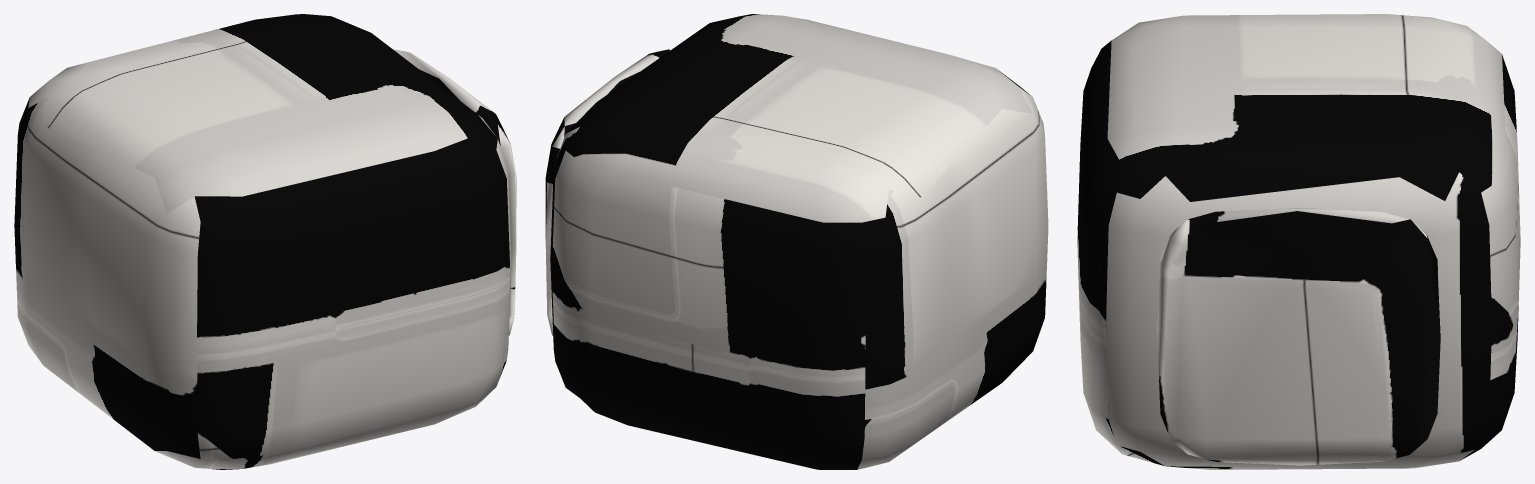
Rendered from Centinela_BrazaleteIzq.fbx.
3 views of the same model, side by side, from view 1: azimuth 30°, elevation 25°; view 2: azimuth 150°, elevation 25°; view 3: azimuth 270°, elevation 25° (orthographic). The views are drawn at different scales.
Visible parts, largest first — view 1: Centinela_BrazaleteIzq; view 2: Centinela_BrazaleteIzq; view 3: Centinela_BrazaleteIzq.
Boxes of the visible parts, bbox=[...] form: Centinela_BrazaleteIzq: bbox=[14, 14, 516, 469]; Centinela_BrazaleteIzq: bbox=[545, 14, 1048, 469]; Centinela_BrazaleteIzq: bbox=[1077, 14, 1520, 469].
Bounding box in the file's own units: 1.19 × 0.9499 × 1.14.
